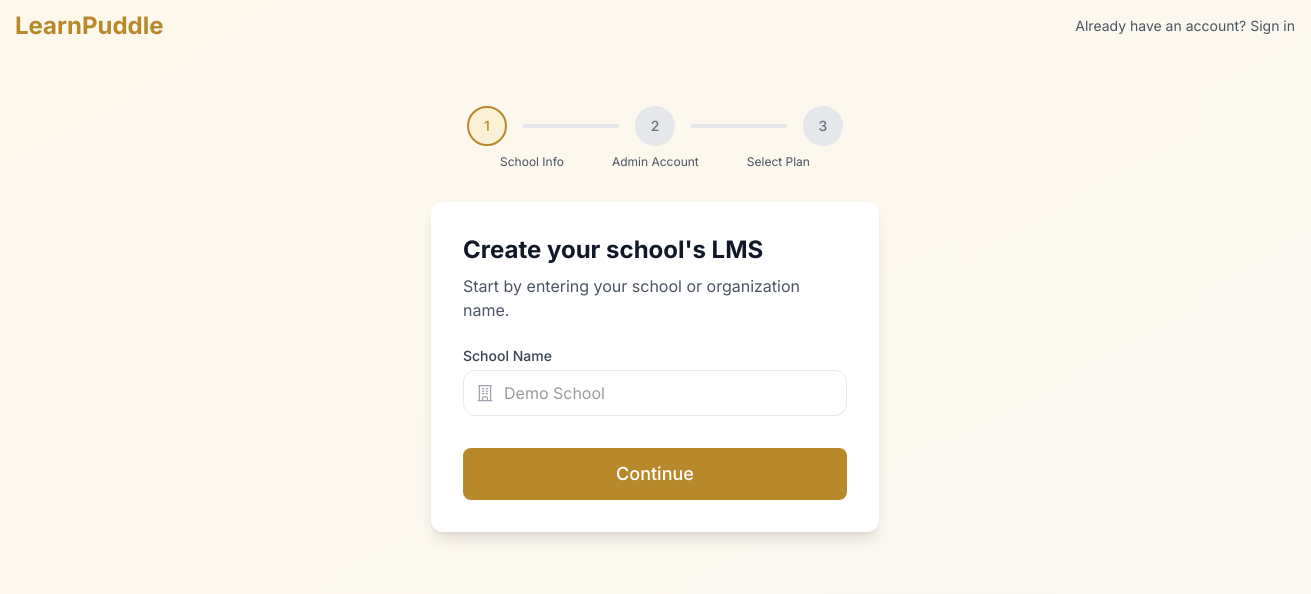
Scenario: SignupPage › subdomain preview › displays the suggested subdomain URL after the debounced check resolves
The width and height of the screenshot is (1311, 594).
In the field labelled "School Name": (655, 393) [463, 370, 847, 416], type "Dem"
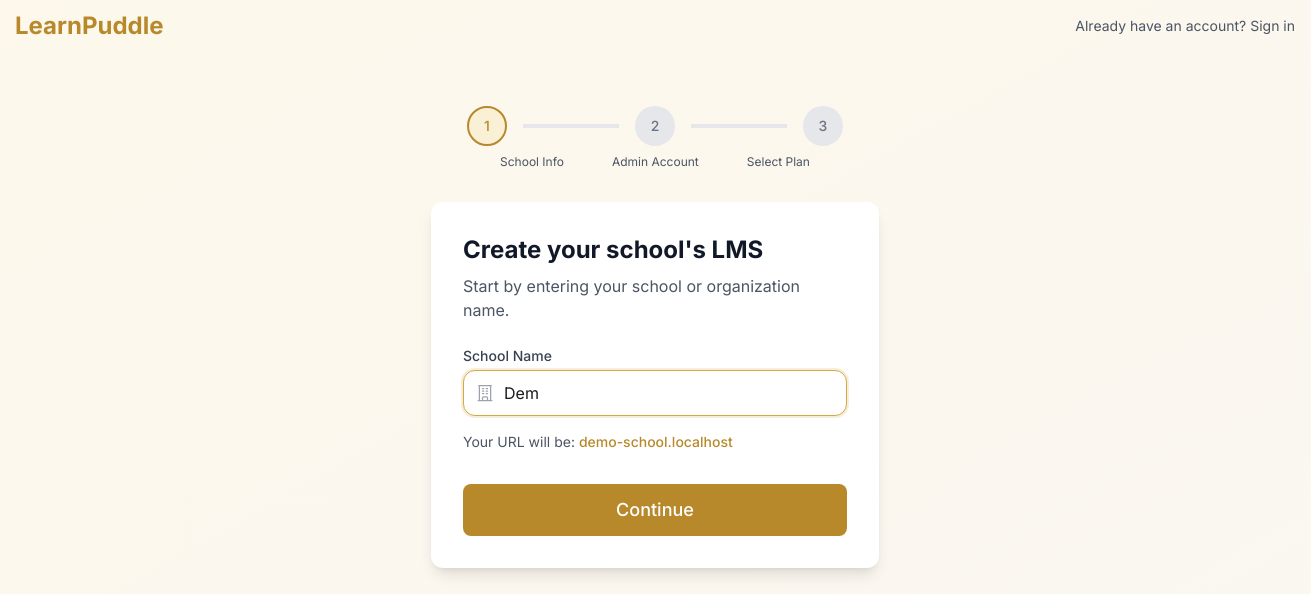
Expected: the text "demo-school.localhost" is shown, [579, 433, 733, 450]
